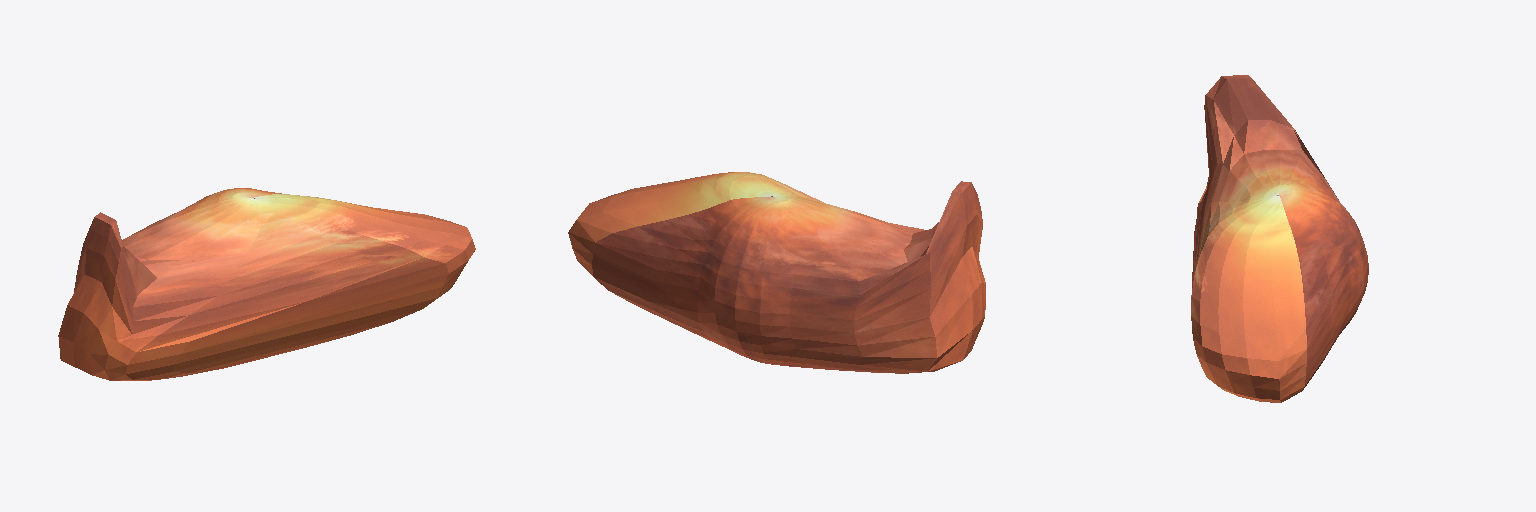
3 renders of one model, left to right at view 1: azimuth 30°, elevation 25°; view 2: azimuth 150°, elevation 25°; view 3: azimuth 270°, elevation 25°, orthographic.
Parts seen in each view (by area): view 1: pSphere1; view 2: pSphere1; view 3: pSphere1.
Boxes of the visible parts, <box> form: pSphere1: <box>58,188,475,380</box>; pSphere1: <box>568,172,985,373</box>; pSphere1: <box>1191,75,1368,402</box>.
Size of the model in its own units: 5.37 by 2.45 by 2.06.
1 materials, 1 textured.